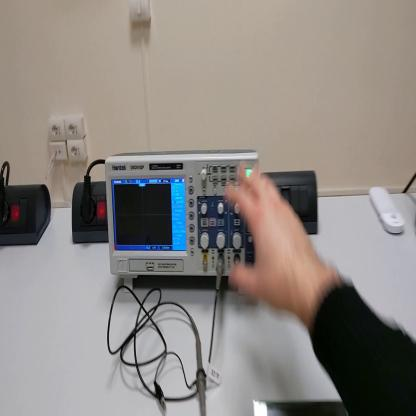hand: (225, 162, 311, 315)
oscilloscope: (106, 147, 262, 296)
oscilloscope probe tip: (188, 314, 208, 416)
socket: (2, 178, 55, 248), (72, 183, 107, 244)
